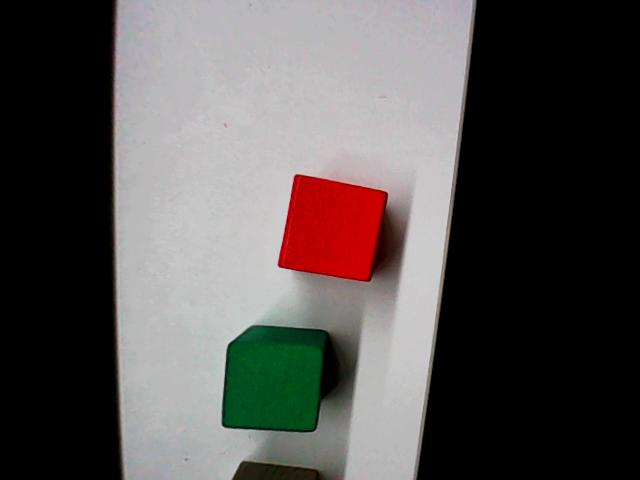green_box: (216, 322, 331, 434)
raw_box: (206, 455, 324, 480)
red_box: (273, 171, 390, 284)
